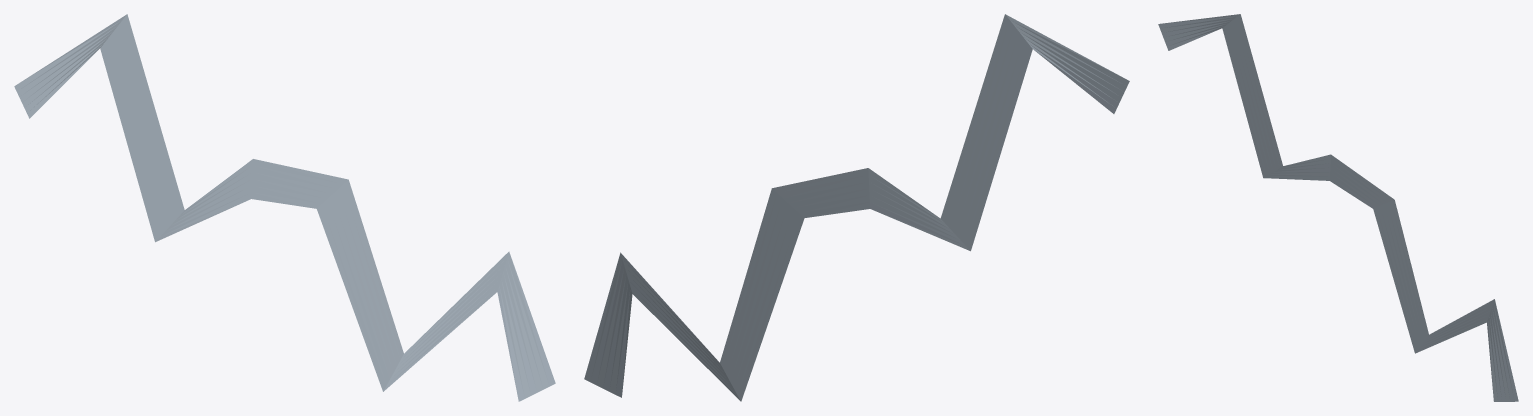
The model's file is 2059_ElectroSurround_SurroundArc11.fbx.
3 renders of one model, left to right at view 1: azimuth 30°, elevation 25°; view 2: azimuth 150°, elevation 25°; view 3: azimuth 330°, elevation 25°, orthographic. The views are drawn at different scales.
Parts seen in each view (by area): view 1: PART_SurroundArc11; view 2: PART_SurroundArc11; view 3: PART_SurroundArc11.
Part boxes in pixels (x1,y1,x2,y2): PART_SurroundArc11: (14,14,555,401); PART_SurroundArc11: (584,14,1129,401); PART_SurroundArc11: (1158,14,1518,401).
Size of the model in its own units: 62.21 by 52.54 by 2.42.
